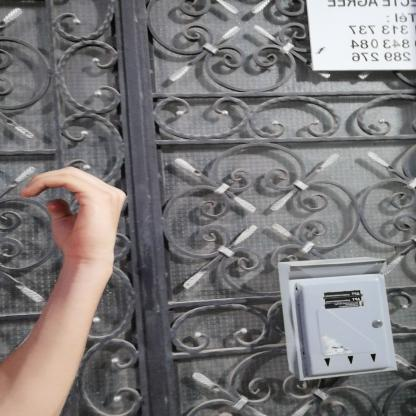JEEM: (8, 156, 136, 269)
